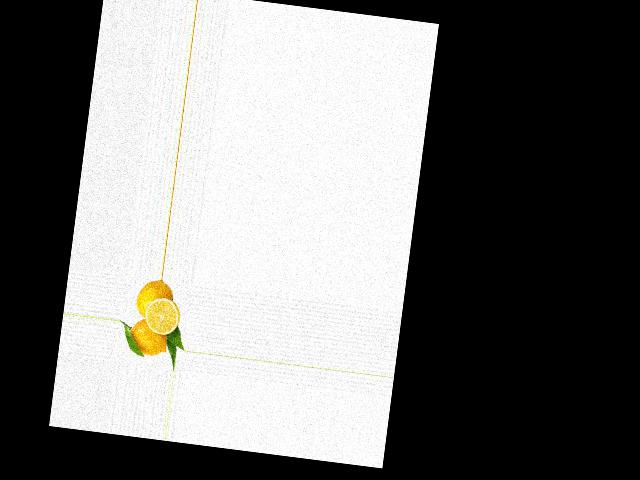lemon: (135, 277, 178, 319)
